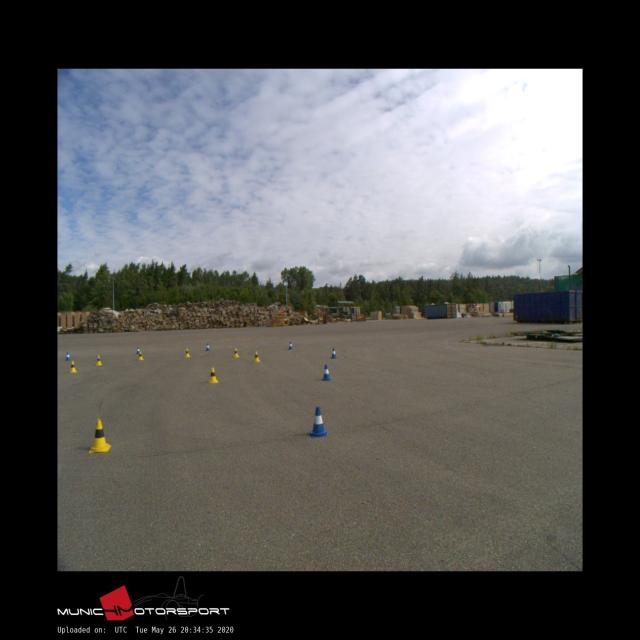blue_cone: (308, 406, 327, 437), (321, 364, 331, 380), (330, 348, 337, 358), (288, 342, 293, 349), (66, 352, 70, 360), (136, 347, 140, 354), (206, 343, 210, 350)
yellow_cone: (88, 419, 111, 453), (208, 367, 218, 383), (68, 360, 76, 372), (95, 354, 102, 366), (253, 352, 259, 362), (233, 348, 239, 357), (184, 348, 189, 357), (138, 352, 143, 361)
